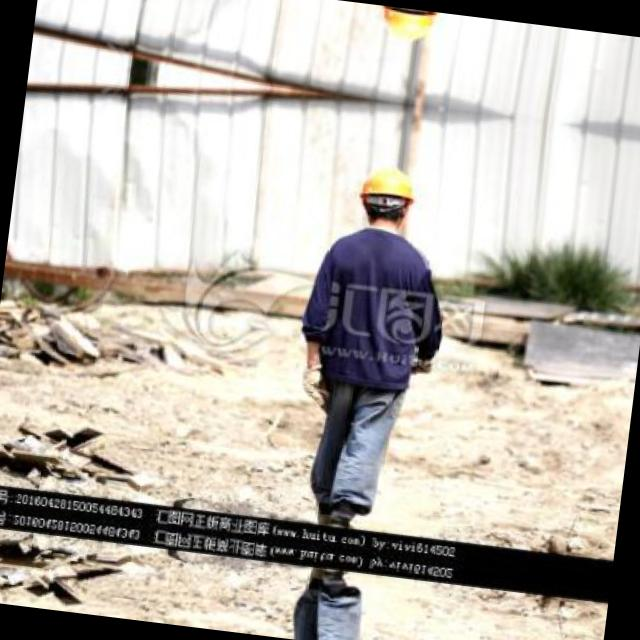helmet: (350, 156, 424, 232), (371, 5, 443, 51)
